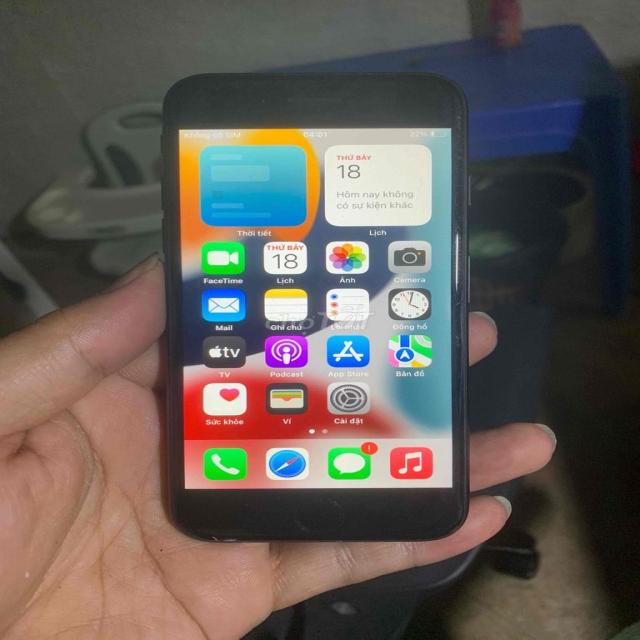gen_7_8: (147, 69, 478, 547)
scratch: (438, 96, 468, 181), (202, 526, 242, 544)
